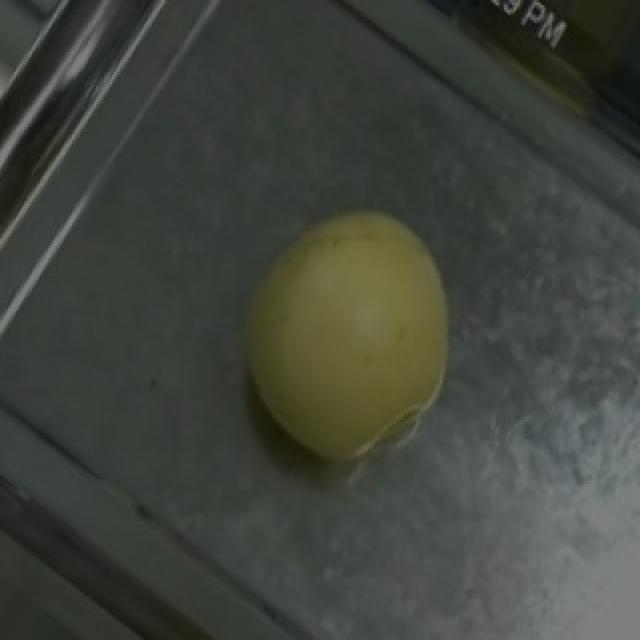Fruit: (192, 166, 502, 501)
